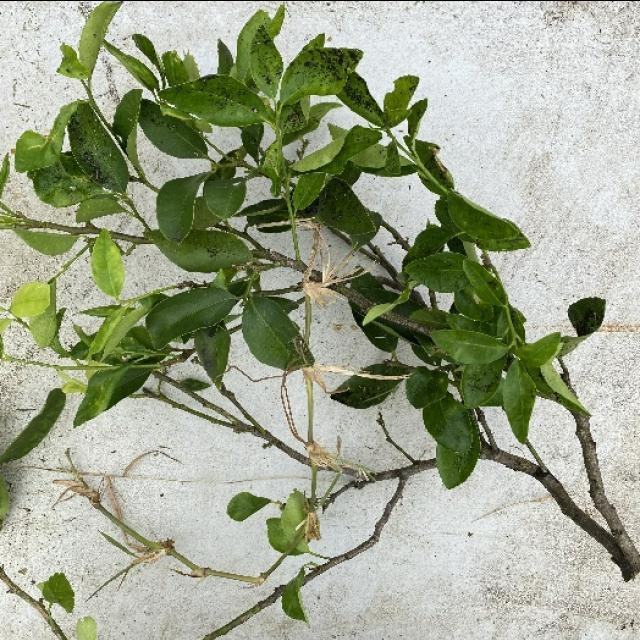organik: (0, 42, 632, 594)
